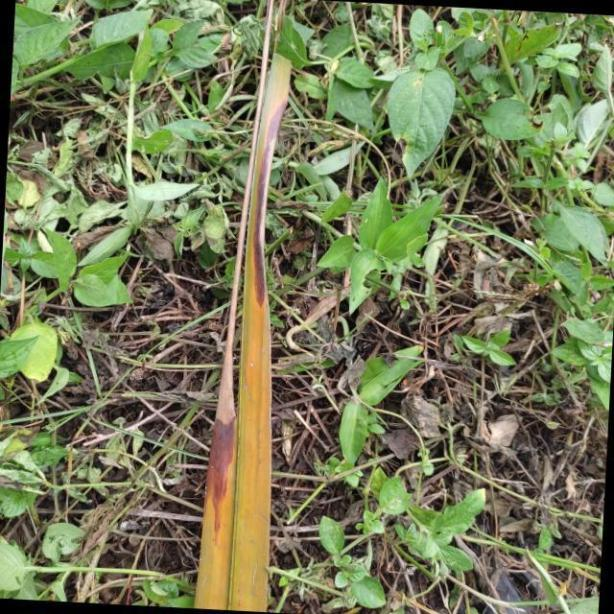Megnesium: (195, 29, 294, 614)
